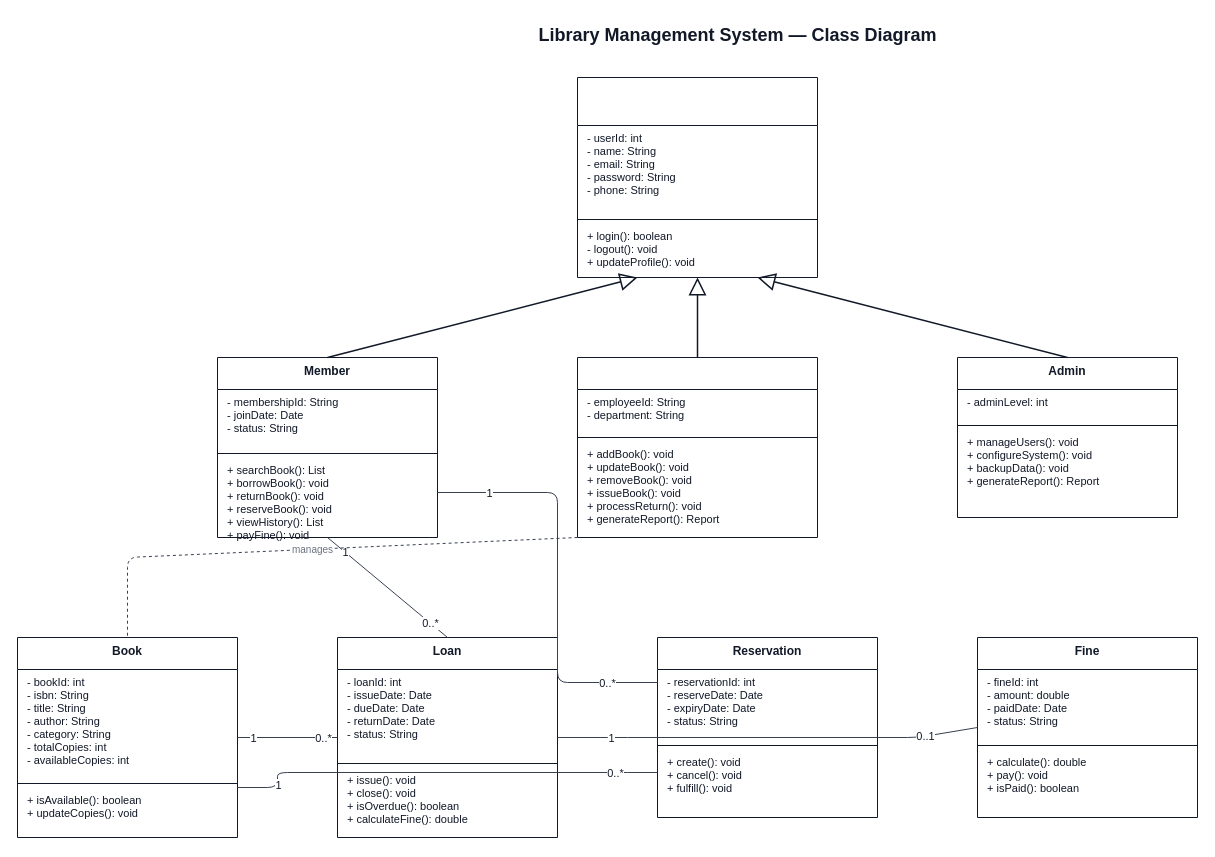
Some shapes in this 1215 by 857 pixel diagram are drawn without their labels. The box of each missing label's shape, as (x1, y1, x2, y2) in pixels:
Librarian: (576, 356, 818, 538)
«abstract» User: (576, 76, 818, 278)
